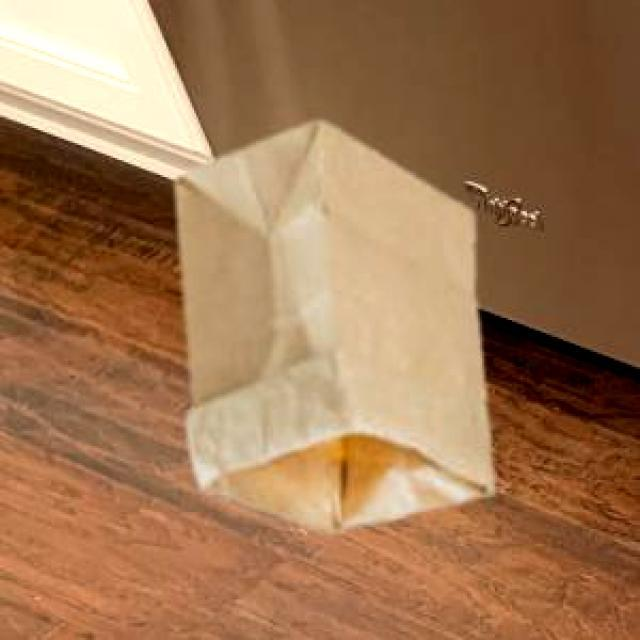Paper_Bag: (173, 118, 490, 528)
